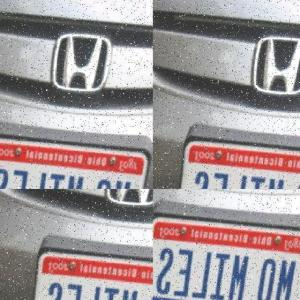Plate: (153, 239, 300, 300), (96, 78, 152, 126)
